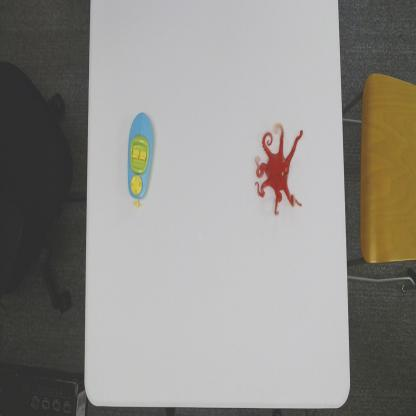Boat: (127, 111, 154, 209)
Octopus: (254, 121, 304, 218)
